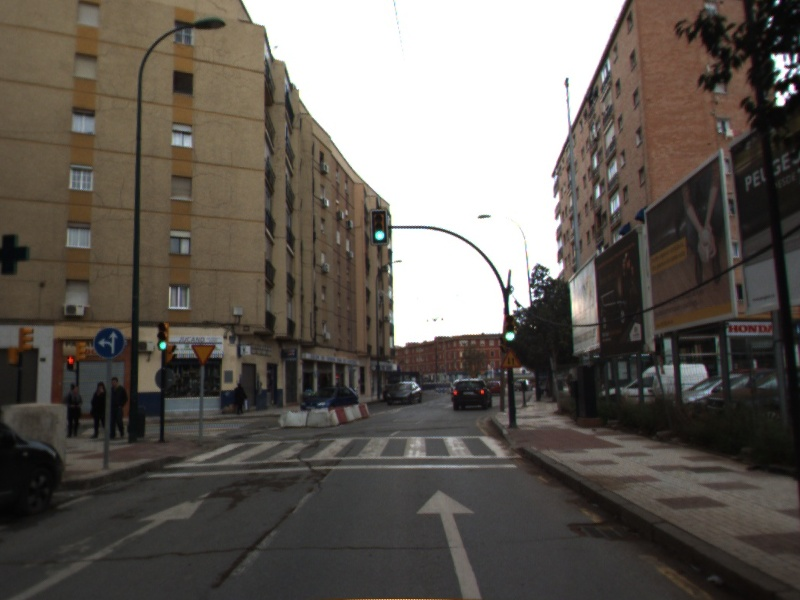STRAIGHT: (1, 482, 220, 600), (412, 486, 485, 600)
